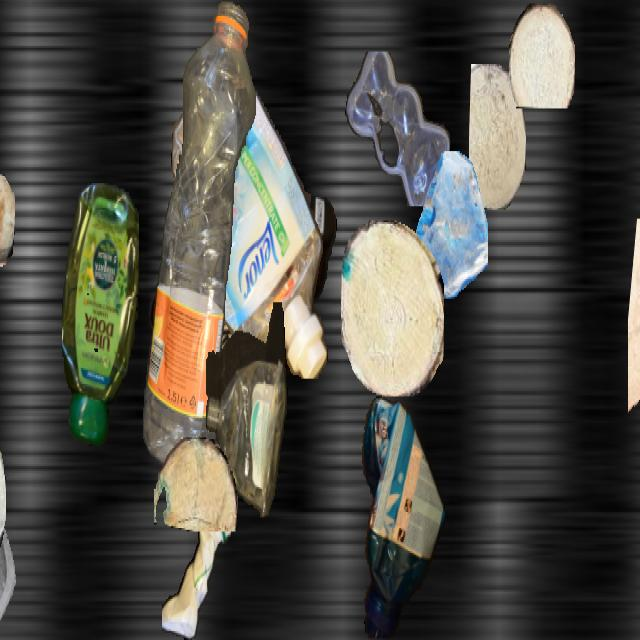glass: (405, 151, 487, 297), (0, 502, 29, 636)
plastic: (143, 2, 255, 471), (170, 71, 330, 377), (149, 197, 337, 439), (356, 393, 444, 638), (62, 183, 138, 446), (206, 302, 288, 519), (345, 52, 451, 205), (162, 489, 230, 638)
wood: (341, 220, 443, 394), (469, 64, 525, 210), (154, 437, 238, 530), (509, 3, 575, 106), (628, 219, 640, 425), (0, 174, 14, 267), (0, 388, 5, 604)
